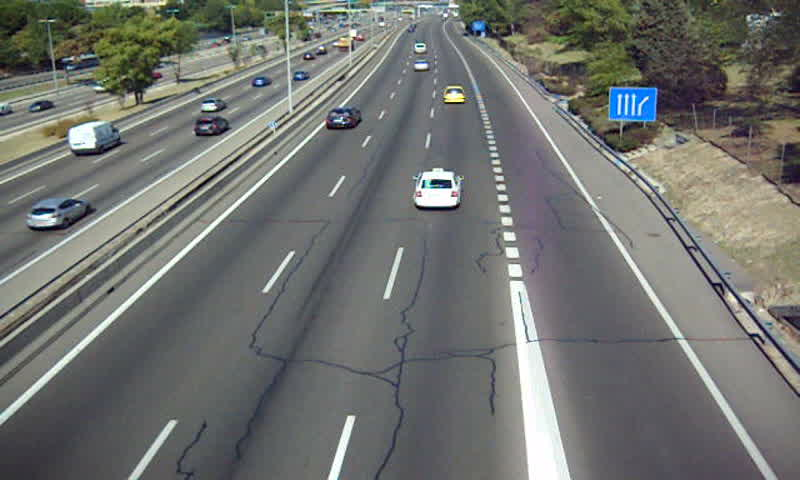car: (414, 171, 463, 209), (325, 109, 360, 129), (443, 84, 466, 104), (412, 58, 430, 72)
